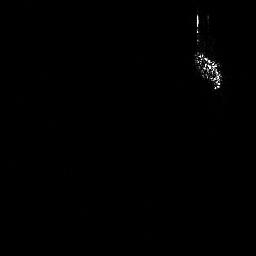ship: (193, 9, 224, 92)
